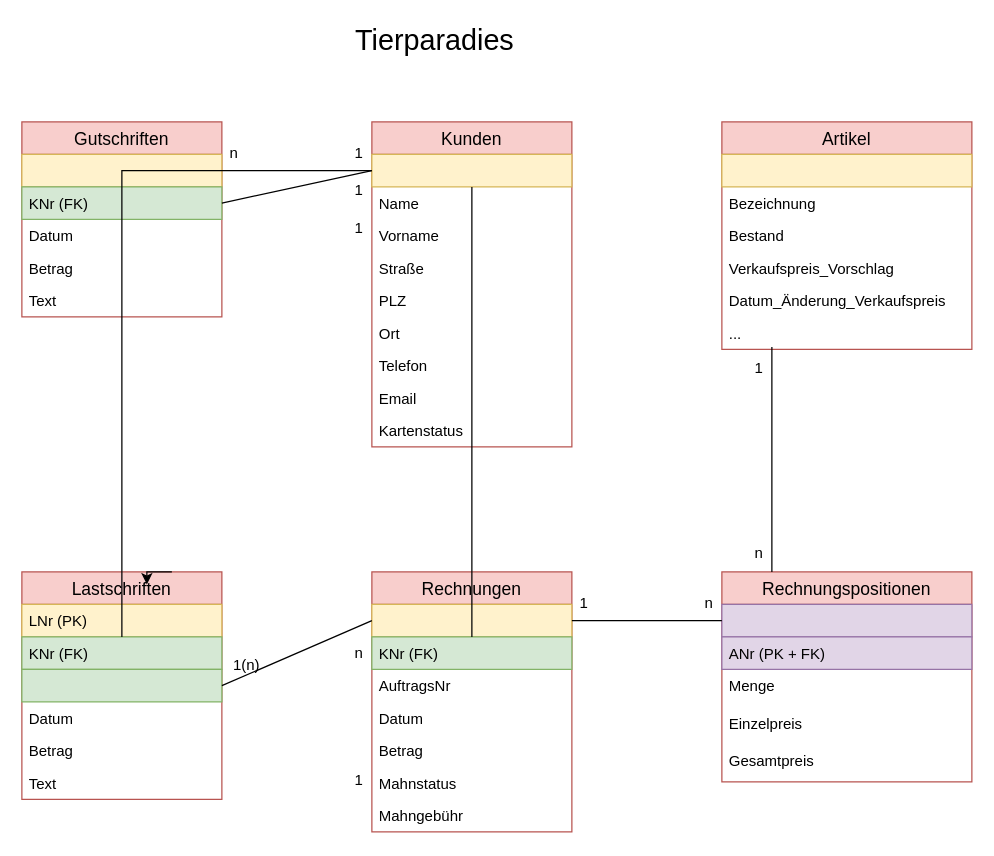
The diagram is 994 pixels wide and 856 high, and some of its shapes have lost their labels. The shapes that lost their labels are listed below. From the top down, each one's centre as x and y in pixels, then its label:
At point (121, 170): "GNr (PK)".
At point (471, 170): "KNr (PK)".
At point (846, 170): "ANr (PK)".
At point (471, 620): "RNr ( PK)".
At point (846, 620): "RNr ( PK + FK)".
At point (121, 685): "RNr (FK)".
